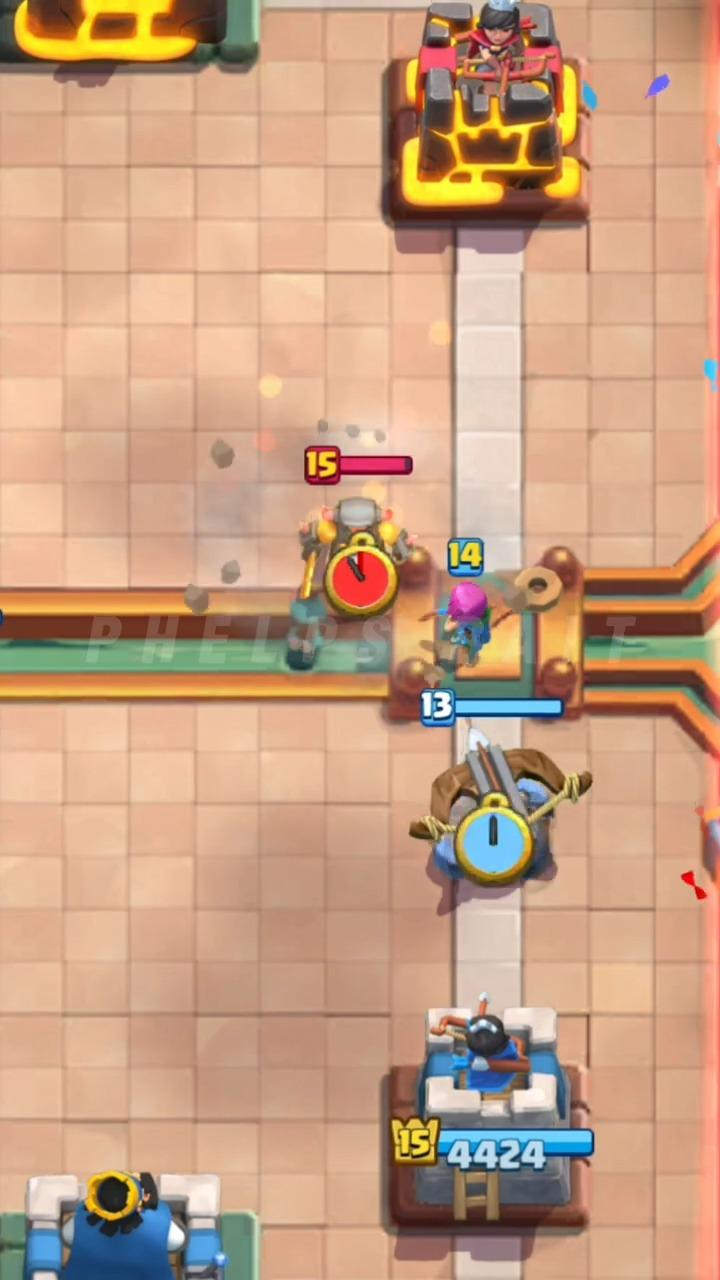archer: (427, 581, 491, 665)
mini pekka: (299, 497, 412, 597)
x-bow: (411, 729, 592, 891)
